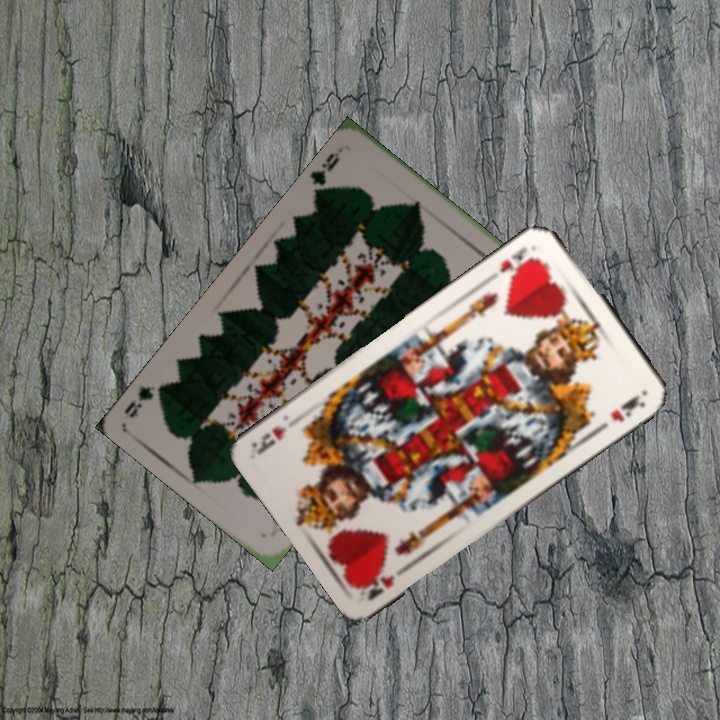G9: (307, 144, 345, 198)
HK: (359, 560, 413, 603), (495, 242, 541, 281)
